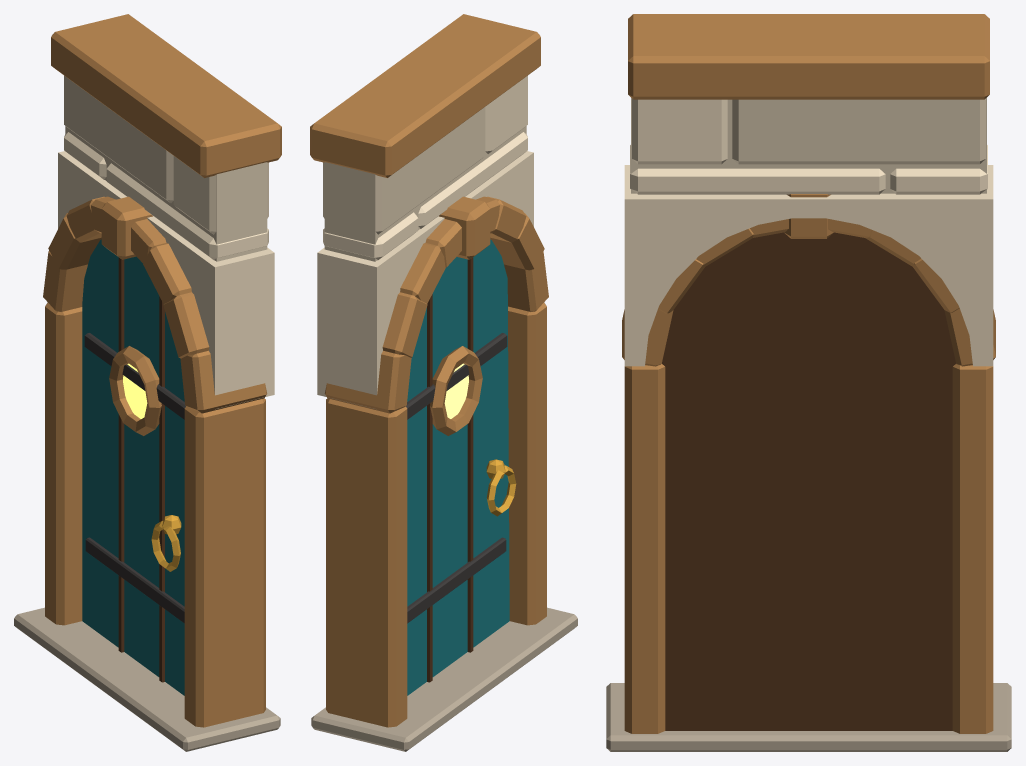
File: mod_wall_curved_r2.42_n16_door.glb
3 views of the same model, side by side, from view 1: azimuth 30°, elevation 25°; view 2: azimuth 150°, elevation 25°; view 3: azimuth 270°, elevation 25° (orthographic). The views are drawn at different scales.
Visible parts, largest first — view 1: mod_wall_curved_r2.42_n16_door, part_door_leaf; view 2: mod_wall_curved_r2.42_n16_door, part_door_leaf; view 3: mod_wall_curved_r2.42_n16_door.
Boxes of the visible parts, x1,y1,x2,y2 form: mod_wall_curved_r2.42_n16_door: [14, 14, 281, 751]; part_door_leaf: [82, 239, 185, 695]; mod_wall_curved_r2.42_n16_door: [310, 14, 577, 751]; part_door_leaf: [406, 239, 516, 695]; mod_wall_curved_r2.42_n16_door: [606, 14, 1011, 751].
Bounding box in the file's own units: 0.4 × 2.1 × 1.1.
